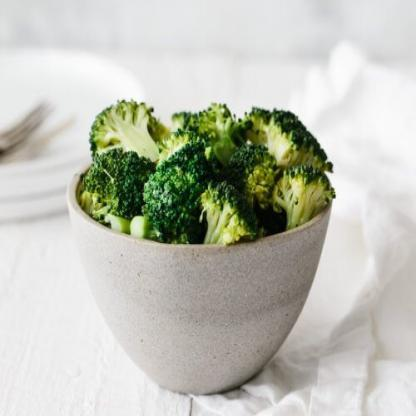broccoli: (75, 96, 336, 247)
